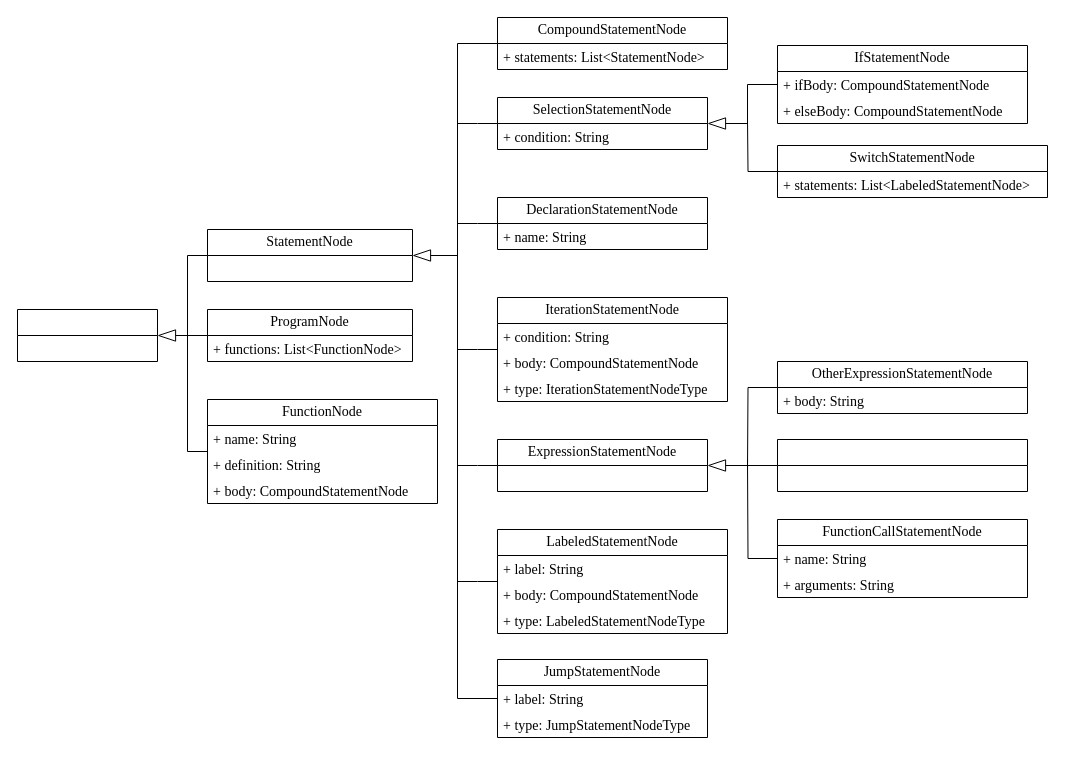
Image size: 1065x758. Some labels were removed from this diagram. Here are the shapes that lost their labels. From the top down, the centre of each, then its label:
At pixel 87 335: "CNode".
At pixel 902 465: "NoOpStatementNode".
